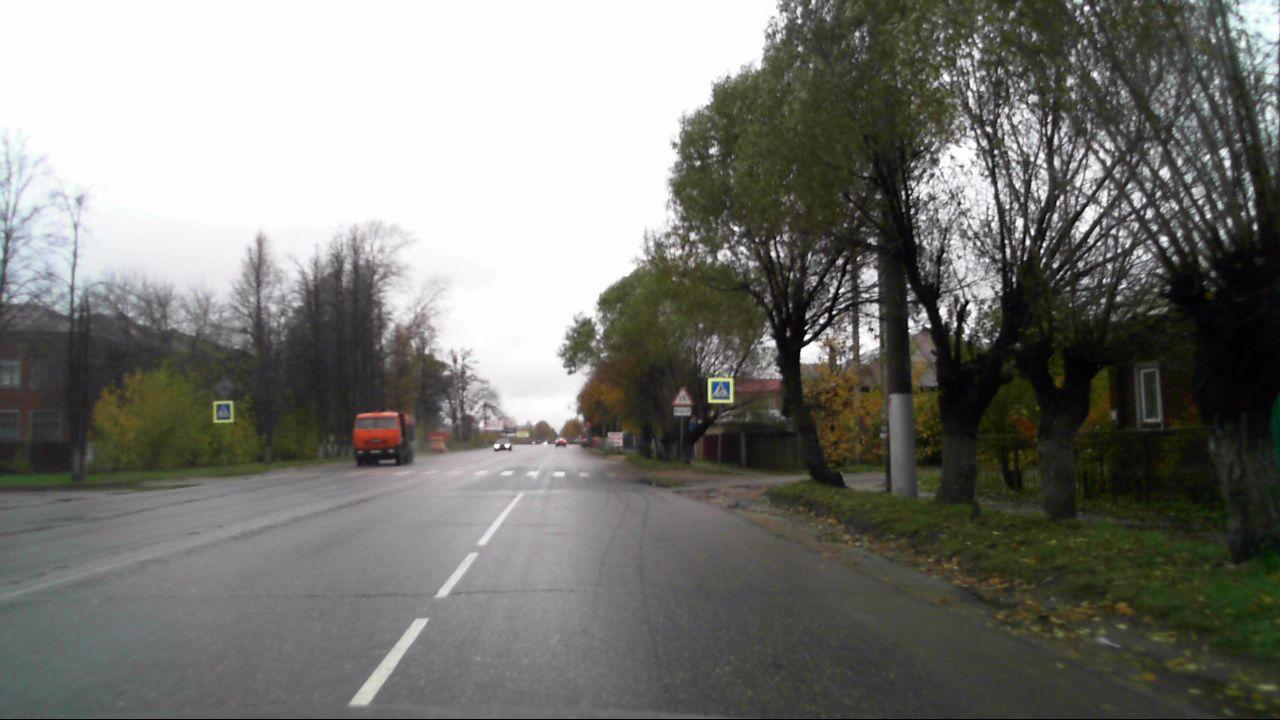road_sign: (707, 378, 734, 403), (212, 400, 234, 424), (670, 386, 696, 406)
